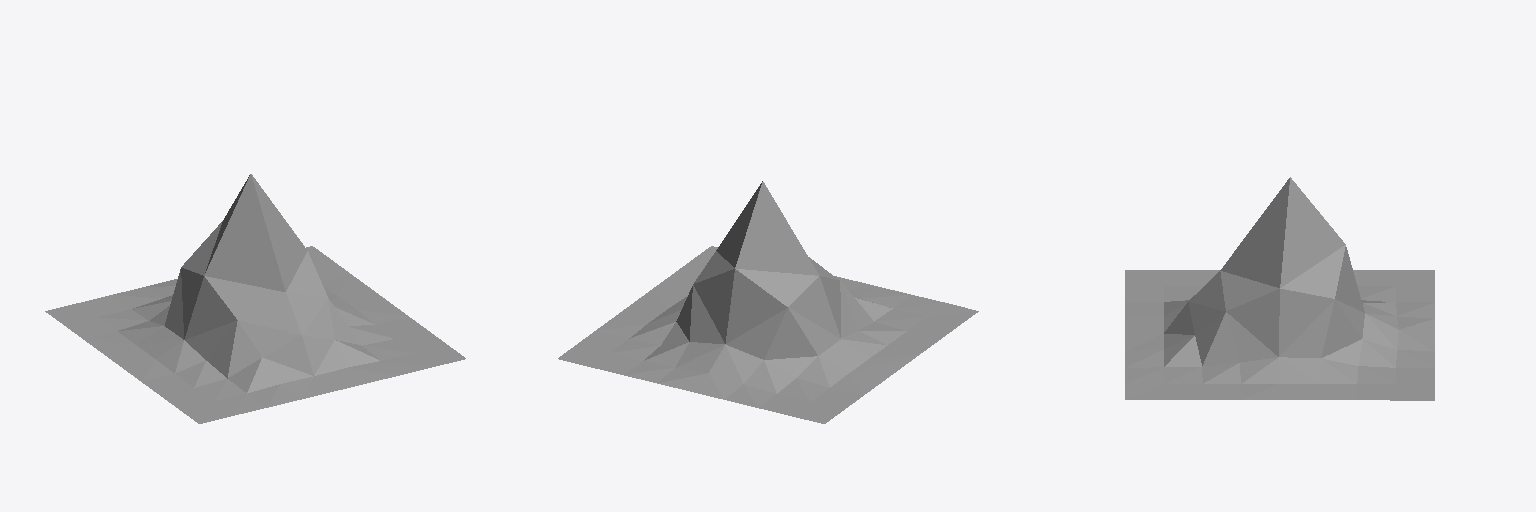
The model's file is Terrain4.obj.
3 views of the same model, side by side, from view 1: azimuth 30°, elevation 25°; view 2: azimuth 150°, elevation 25°; view 3: azimuth 270°, elevation 25° (orthographic).
Parts seen in each view (by area): view 1: Plane.001; view 2: Plane.001; view 3: Plane.001.
Part boxes in pixels (x1,y1,x2,y2): Plane.001: (45,174,465,423); Plane.001: (558,181,978,423); Plane.001: (1125,177,1434,400).
Size of the model in its own units: 4.16 by 2.35 by 4.16.